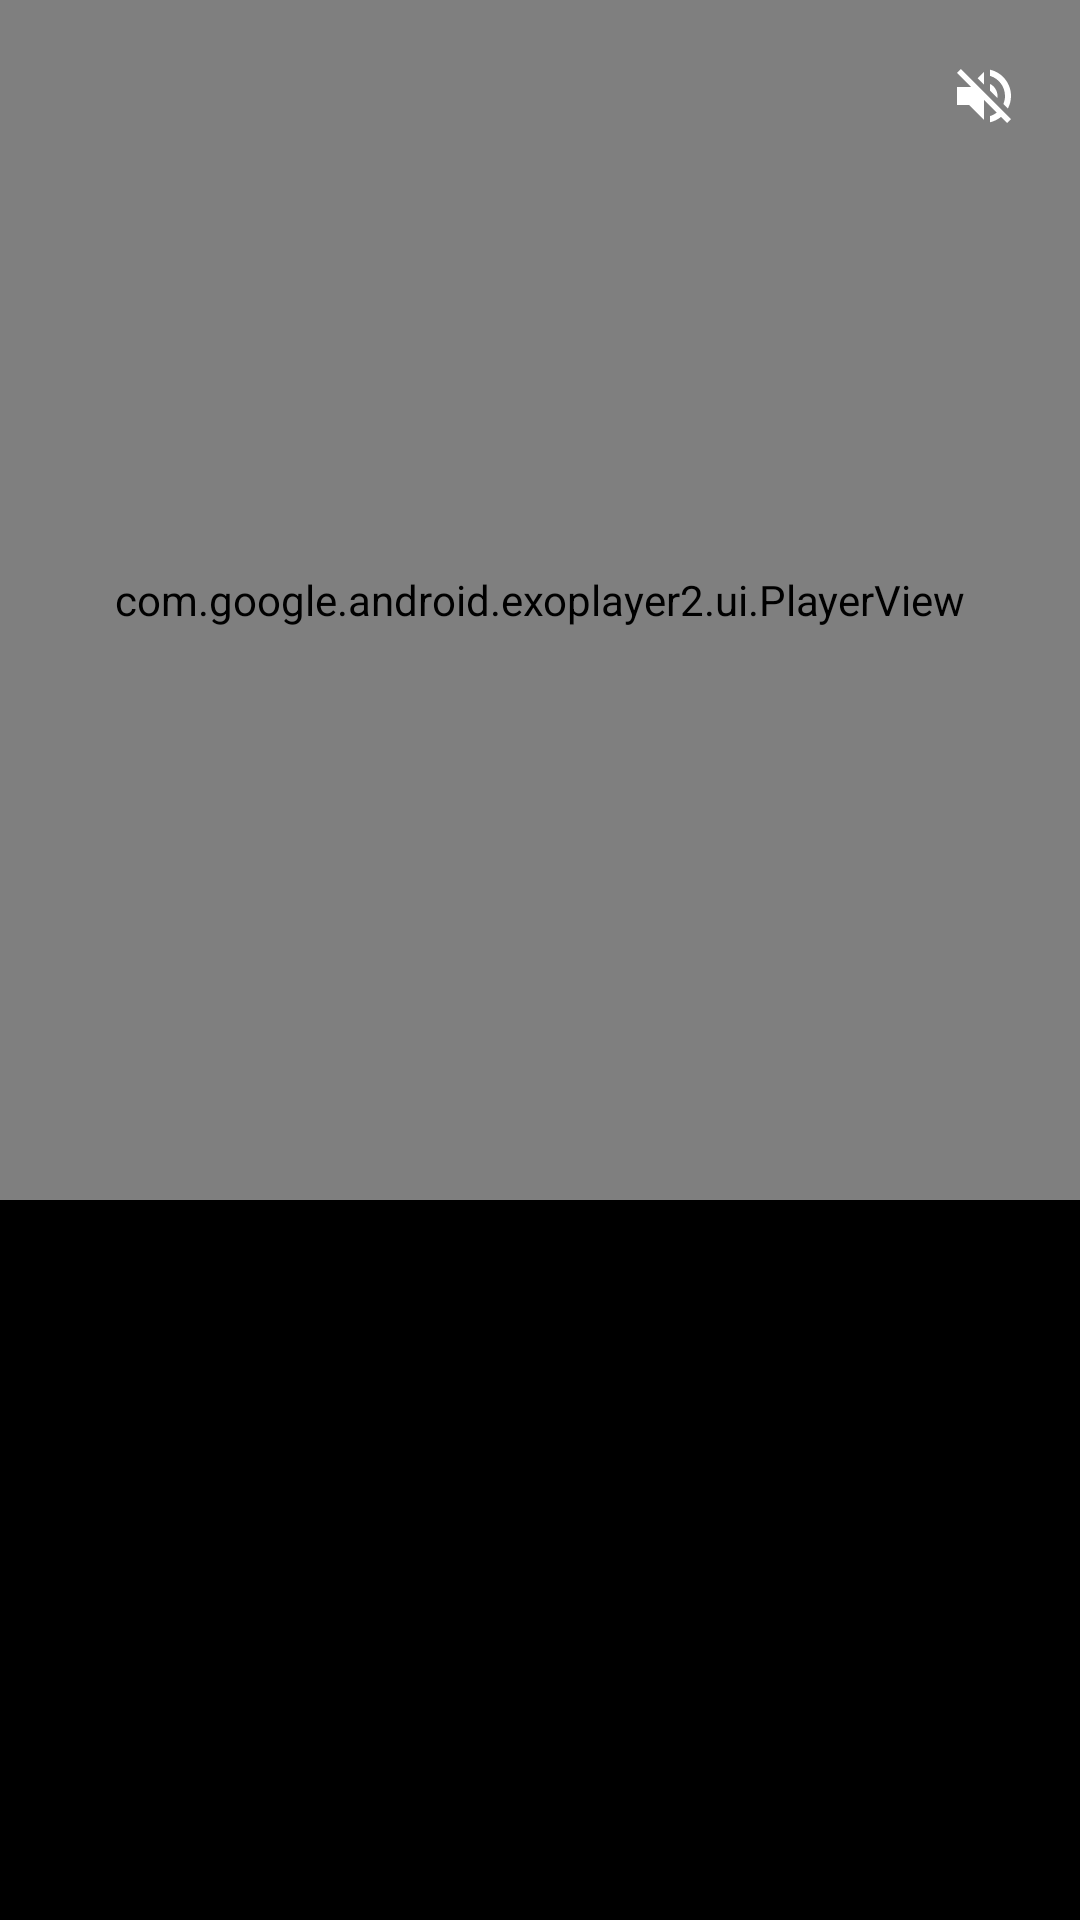

Named icons in this screenshot (1080px×1920px) and their bounding boxes, (x1, y1, x2, y2):
volume off: (957, 69, 1011, 123)
